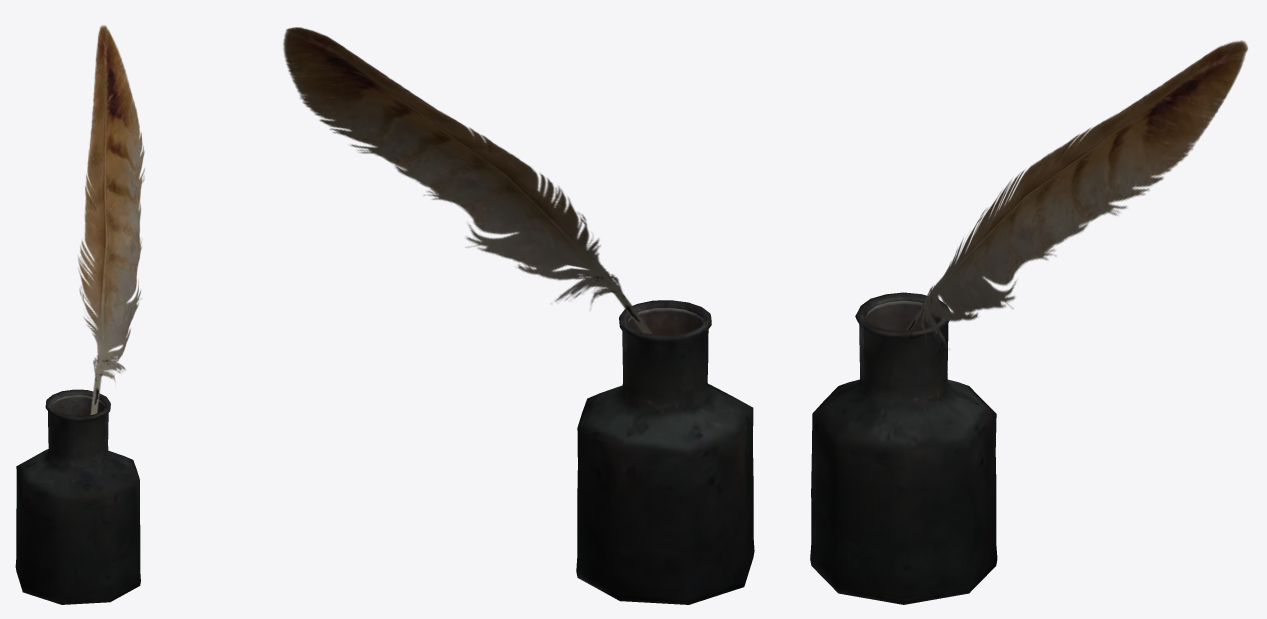
File: ink-quill.glb
The picture shows the model from 3 angles, left to right: view 1: azimuth 30°, elevation 25°; view 2: azimuth 150°, elevation 25°; view 3: azimuth 270°, elevation 25°; orthographic projection. The views are drawn at different scales.
Visible parts, largest first — view 1: Feather_Quill_low_Victorian_Ink_Bottle_0; view 2: Feather_Quill_low_Victorian_Ink_Bottle_0; view 3: Feather_Quill_low_Victorian_Ink_Bottle_0.
Part boxes in pixels (left/top/right/bottom): Feather_Quill_low_Victorian_Ink_Bottle_0: left=15, top=25, right=144, bottom=604; Feather_Quill_low_Victorian_Ink_Bottle_0: left=283, top=27, right=754, bottom=604; Feather_Quill_low_Victorian_Ink_Bottle_0: left=810, top=40, right=1247, bottom=604.
Size of the model in its own units: 0.1378 by 0.2079 by 0.1297.
Materials: 1 (1 with a texture image).
